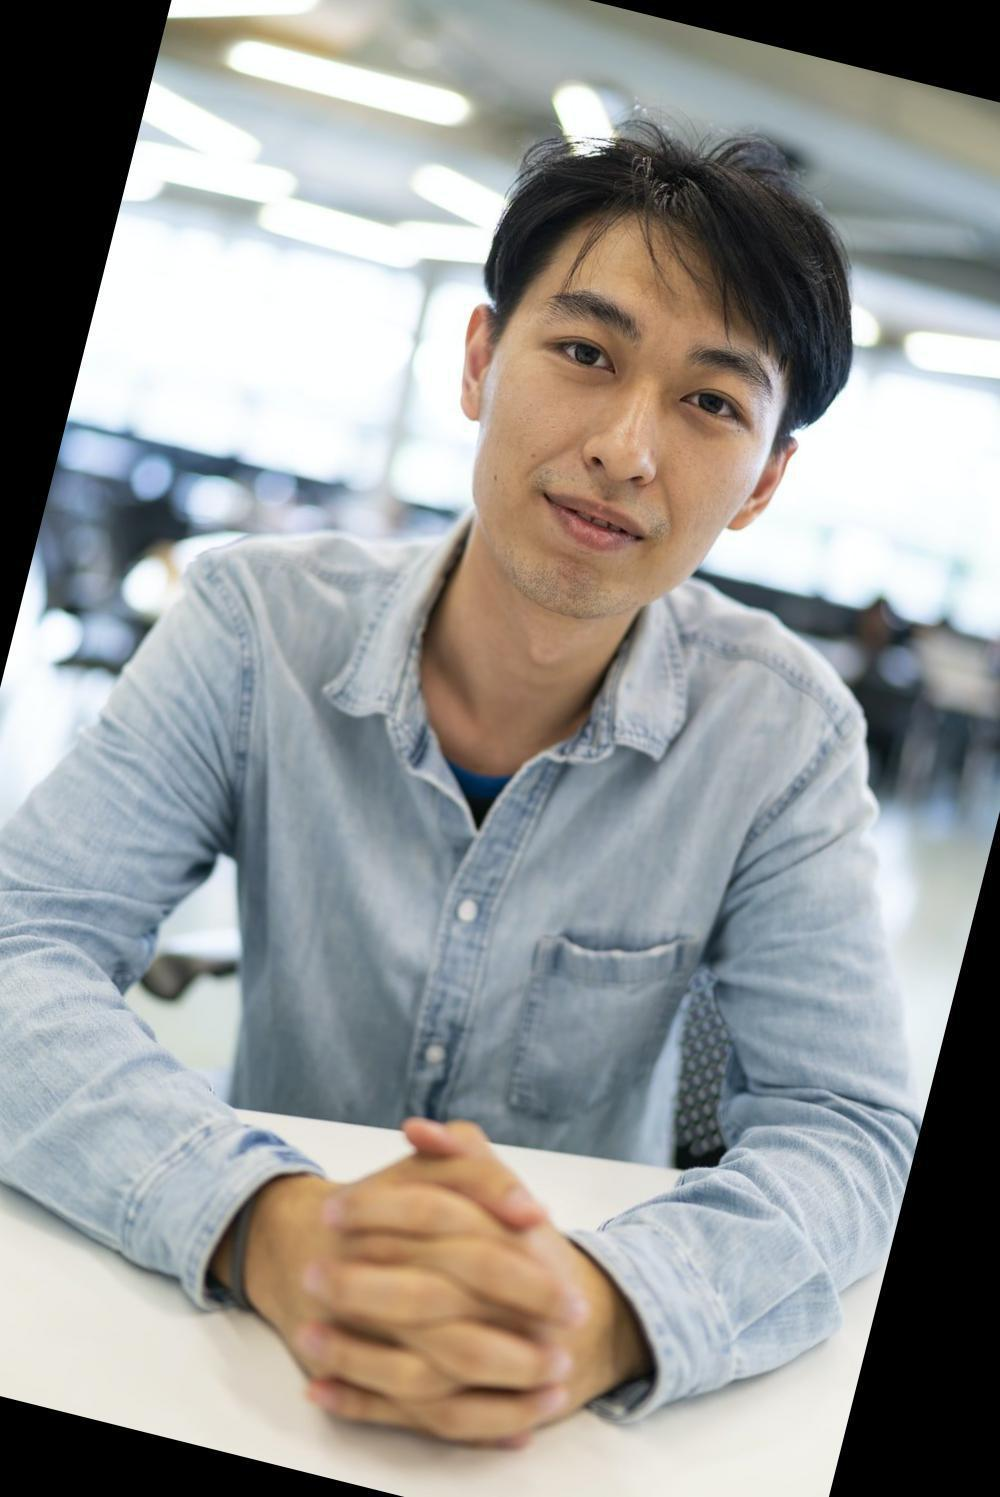Sober: (468, 267, 754, 595)
